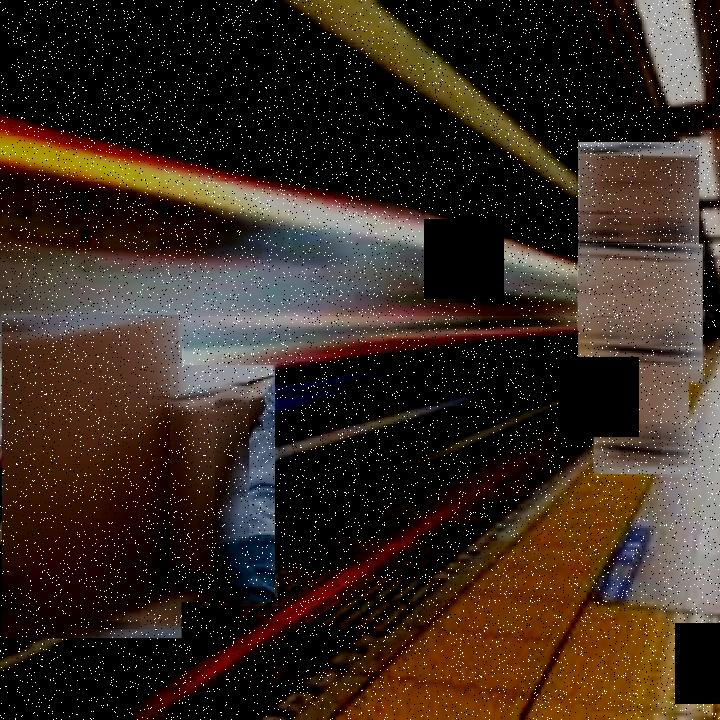box: (1, 312, 184, 648), (170, 363, 278, 606), (577, 243, 705, 385), (576, 140, 703, 268), (593, 349, 691, 477)
